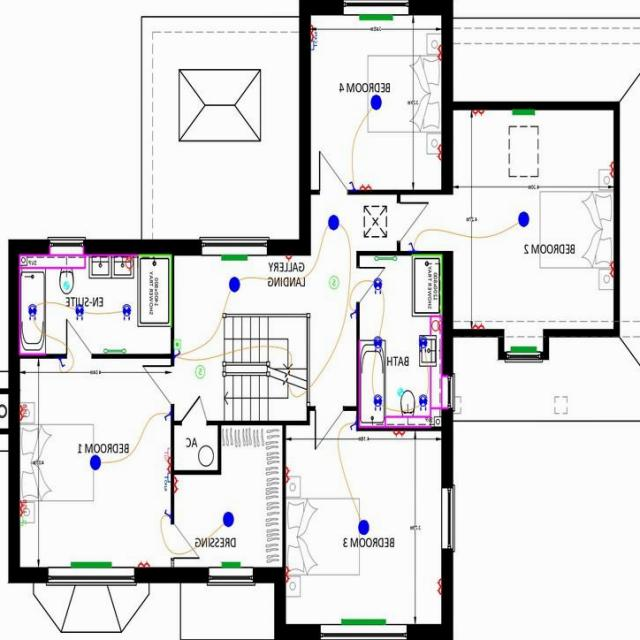Cat 6 Data Socket: (159, 471, 169, 491), (306, 41, 319, 52)
Ceiling Mounted Continuous Extract Fan With Boost Mode Activated By Light Switch: (61, 275, 72, 293), (394, 382, 404, 401)
Co-Ax TV Socket: (157, 443, 171, 455)
Double Socket: (600, 254, 616, 281), (465, 106, 488, 120), (308, 22, 324, 42), (156, 455, 172, 472), (606, 154, 614, 187), (430, 140, 442, 162), (134, 558, 155, 569), (283, 462, 292, 487), (357, 178, 376, 189), (283, 559, 291, 584), (432, 576, 441, 598), (468, 321, 490, 330), (431, 42, 440, 61), (388, 430, 408, 438)
Full Height Tiling: (137, 251, 174, 327), (410, 250, 445, 318)
Light Switch: (345, 302, 357, 323), (402, 240, 422, 251), (159, 406, 172, 422), (54, 356, 70, 368), (160, 506, 173, 520), (347, 416, 358, 432), (172, 347, 183, 359), (346, 180, 359, 189)
Low Energy Downlighter: (368, 389, 382, 416), (370, 272, 383, 301), (414, 330, 428, 356), (371, 332, 386, 354), (26, 302, 40, 322), (117, 302, 131, 322), (416, 392, 430, 412), (72, 303, 88, 319)
Low Energy Pendant Light: (513, 206, 531, 232), (365, 90, 386, 112), (88, 452, 104, 476), (226, 272, 242, 296), (325, 212, 342, 234), (216, 511, 237, 526), (357, 516, 371, 536)
Mains Wired Smoke Detector: (324, 270, 348, 291), (188, 364, 207, 379)
Programmable Room Thermostat: (173, 334, 184, 347)
Radiator: (354, 10, 401, 24), (499, 108, 542, 121), (333, 616, 390, 624), (507, 342, 542, 355), (68, 558, 114, 567), (216, 254, 252, 264), (218, 559, 242, 568)
Shaver Socket: (123, 251, 135, 273), (427, 316, 442, 332)
Single Socket: (279, 253, 296, 261)
Telephone Socket: (17, 516, 28, 530)
USB Double Socket: (17, 497, 33, 516), (17, 402, 29, 423)
